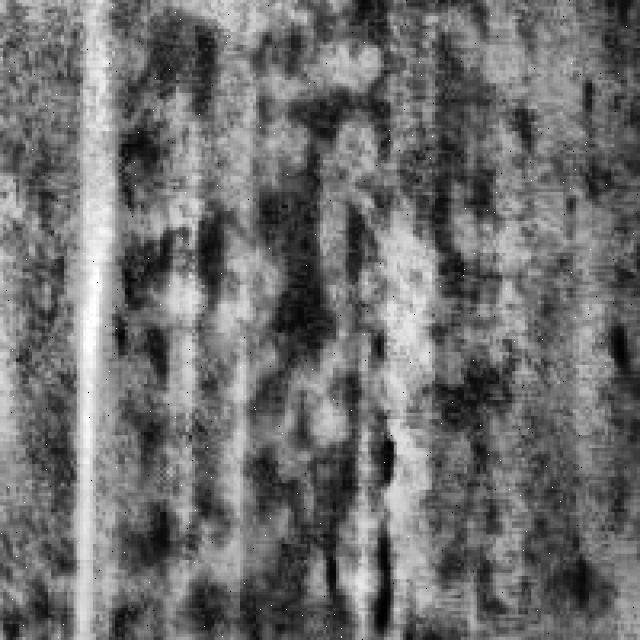Inclusion: (64, 112, 109, 630)
